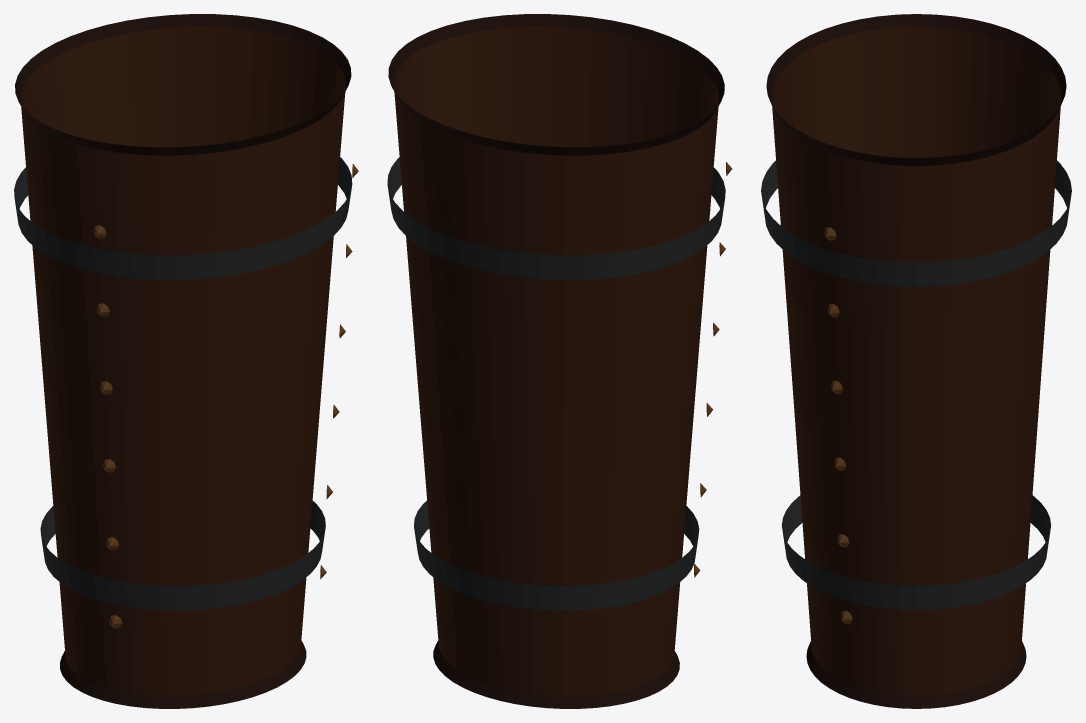
The picture shows the model from 3 angles, left to right: view 1: azimuth 30°, elevation 25°; view 2: azimuth 150°, elevation 25°; view 3: azimuth 270°, elevation 25°; orthographic projection.
Size of the model in its own units: 0.18 by 0.332 by 0.1641.
